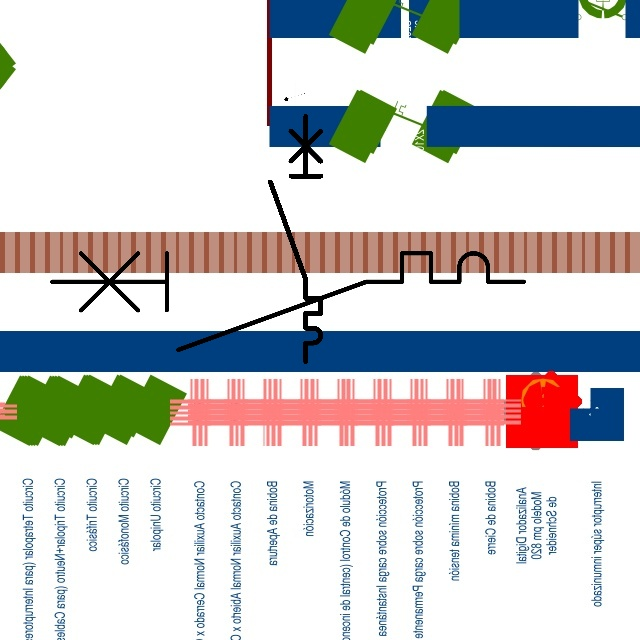interruptor_termomagnetico: (40, 241, 536, 362), (264, 110, 327, 368)
